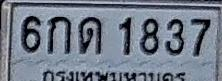1: (118, 16, 132, 54)
3: (165, 18, 184, 55)
6: (21, 15, 40, 52)
7: (190, 18, 210, 56)
8: (140, 18, 159, 54)
A01: (47, 15, 71, 54)
A20: (78, 16, 102, 54)
